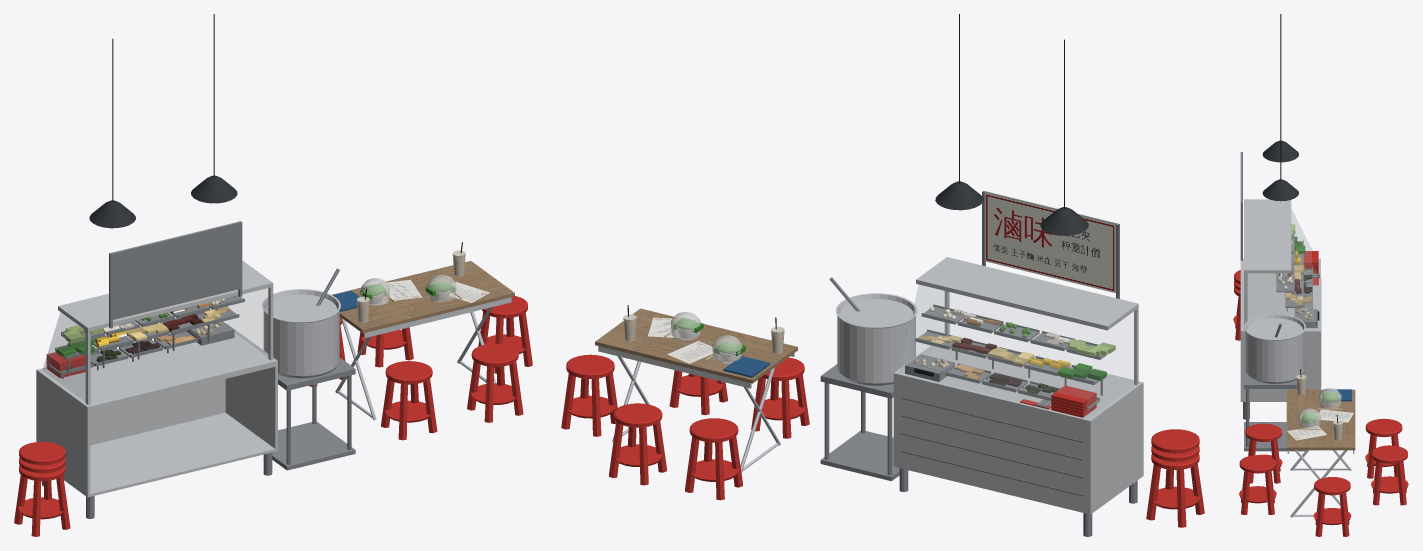
File: luwei_stall.glb
3 renders of one model, left to right at view 1: azimuth 30°, elevation 25°; view 2: azimuth 150°, elevation 25°; view 3: azimuth 270°, elevation 25°, orthographic. The views are drawn at different scales.
Visible parts, largest first — view 1: luwei_cart, luwei_cart_dark, luwei_red, luwei_table, luwei_glass, luwei_food, luwei_shade, luwei_bag, luwei_paper, luwei_wire, luwei_cup; view 2: luwei_cart, luwei_glass, luwei_red, luwei_cart_dark, luwei_sign, luwei_food, luwei_table, luwei_shade, luwei_bag, luwei_paper; view 3: luwei_cart, luwei_red, luwei_glass, luwei_cart_dark, luwei_table, luwei_food, luwei_shade, luwei_bag, luwei_paper, luwei_cup, luwei_wire.
Part boxes in pixels (x1,y1,x2,y2): luwei_cart: (36,261,511,497); luwei_cart_dark: (42,221,355,518); luwei_red: (14,296,532,536); luwei_table: (332,261,514,333); luwei_glass: (43,288,267,400); luwei_food: (56,281,455,370); luwei_shade: (89,175,237,228); luwei_bag: (361,274,456,305); luwei_paper: (382,279,489,302); luwei_wire: (112,14,462,299); luwei_cup: (357,250,465,322); luwei_cart: (598,257,1143,514); luwei_glass: (900,285,1134,417); luwei_red: (561,354,1204,527); luwei_cart_dark: (820,190,1137,536); luwei_sign: (984,192,1115,292); luwei_food: (673,307,1115,393); luwei_table: (595,308,797,383); luwei_shade: (935,181,1088,235); luwei_bag: (670,311,742,363); luwei_paper: (648,317,713,363); luwei_cart: (1240,199,1354,517); luwei_red: (1233,251,1408,536); luwei_glass: (1248,209,1316,329); luwei_cart_dark: (1240,152,1321,451); luwei_table: (1286,389,1355,450); luwei_food: (1277,223,1338,423); luwei_shade: (1262,140,1298,201); luwei_bag: (1298,388,1341,429); luwei_paper: (1287,409,1353,440); luwei_cup: (1296,374,1343,440); luwei_wire: (1280,14,1338,423).
Size of the model in its own units: 4.38 by 3.41 by 1.53.
18 materials, 3 textured.
